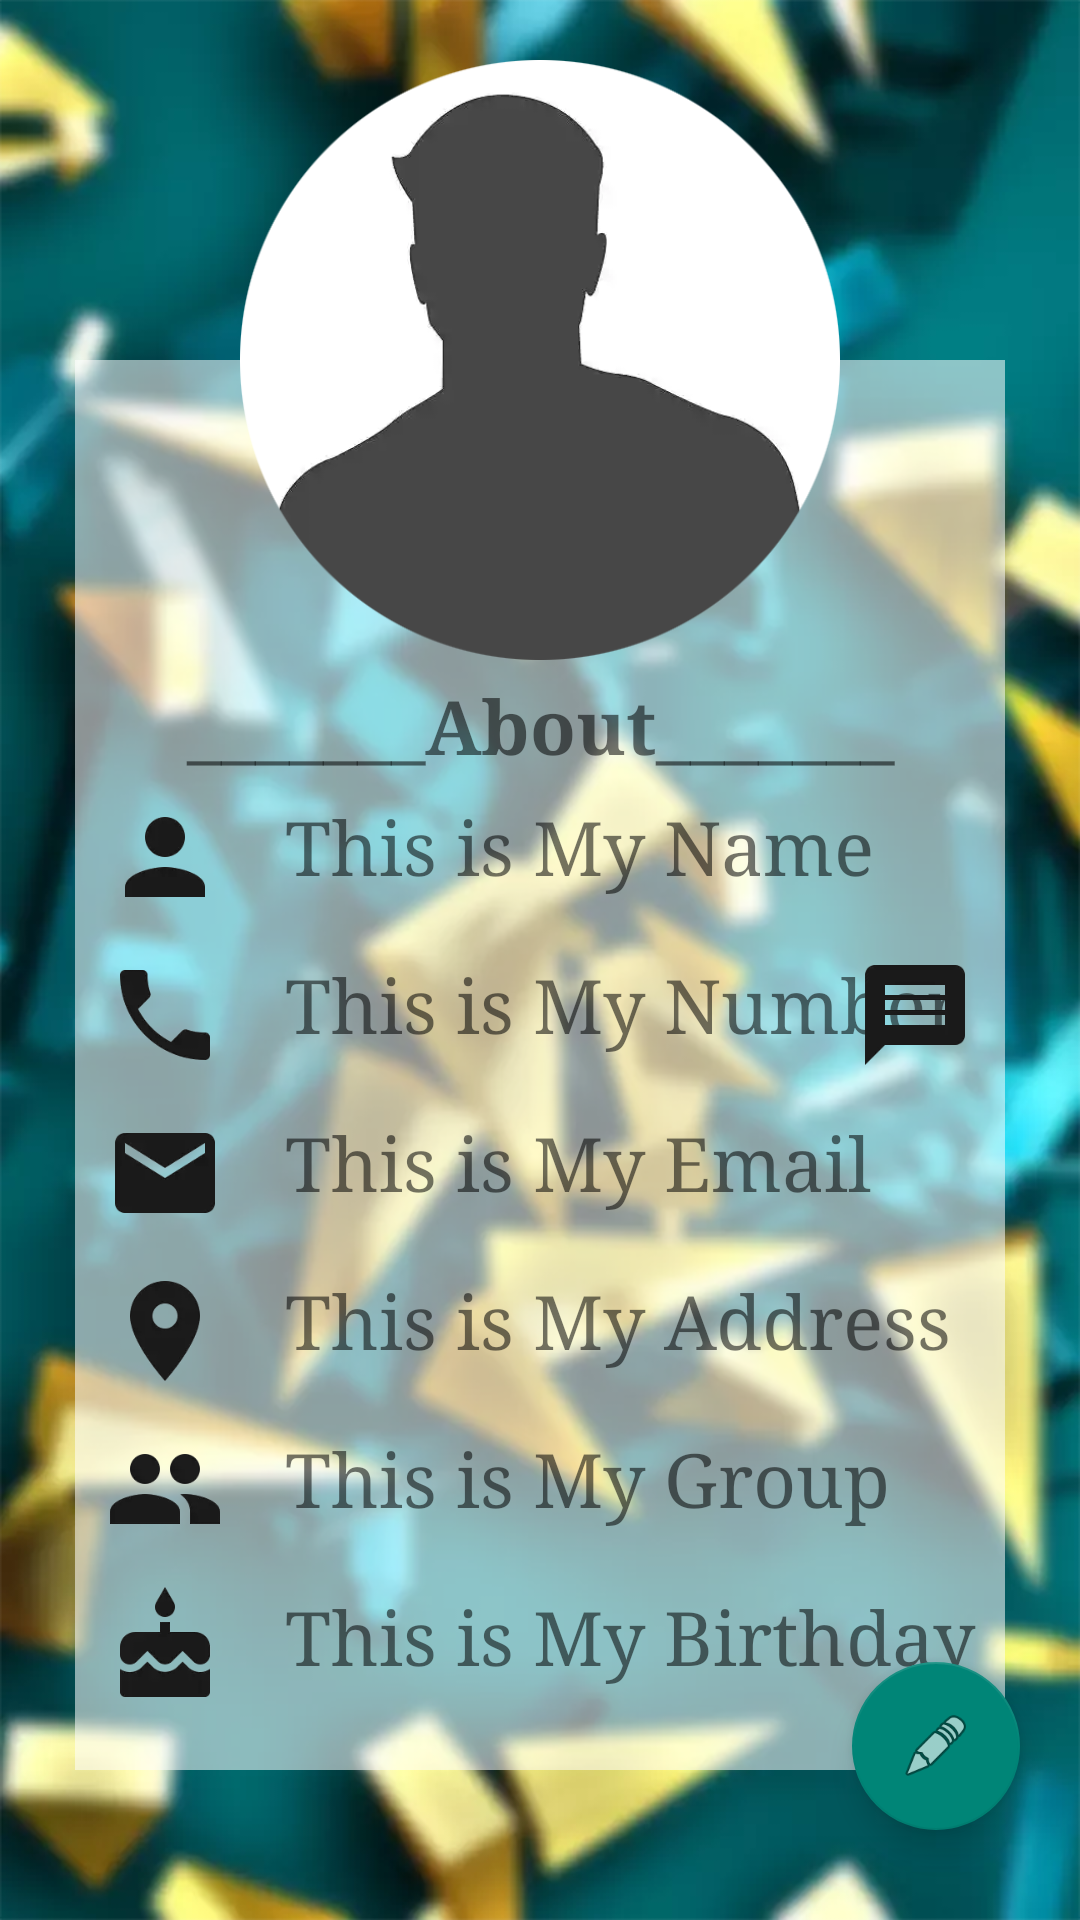

Screen size 1080×1920. Icon name, then its center in pixels as (x,y):
cake: (165,1642)
edit: (936,1746)
message: (915,1015)
